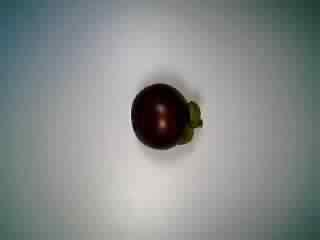mangosteen: (122, 77, 207, 149)
